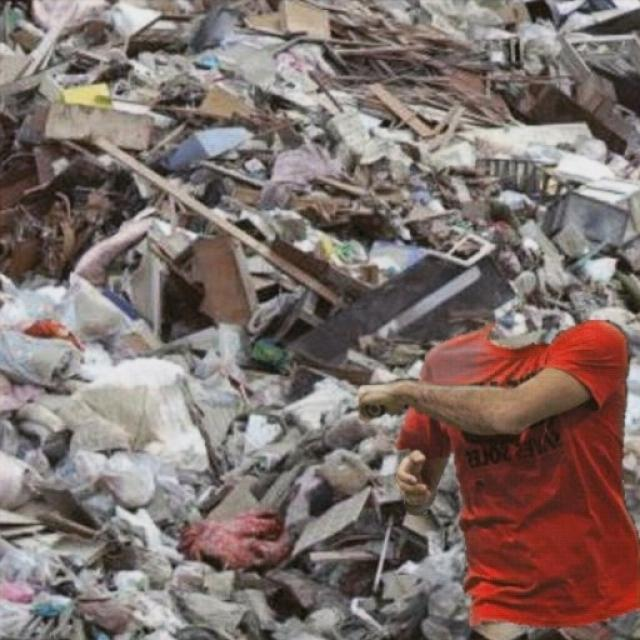Person in Rubble: (359, 320, 639, 628)
